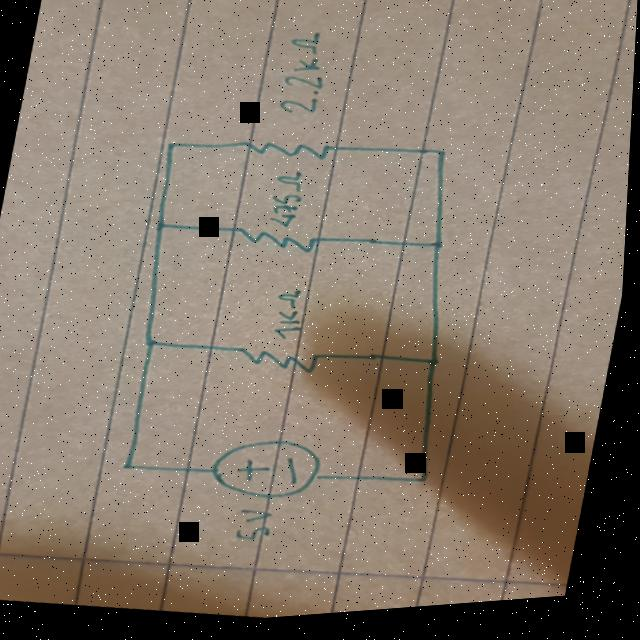junction: (117, 458, 149, 478), (140, 335, 167, 354), (158, 139, 186, 157), (426, 241, 452, 260), (413, 478, 440, 495), (151, 219, 176, 236), (424, 360, 450, 376), (430, 152, 456, 168)
resistor: (229, 130, 349, 177), (225, 221, 335, 266), (244, 343, 334, 386)
source: (209, 432, 335, 515)
text: (270, 31, 337, 125), (261, 167, 311, 240), (270, 290, 316, 347), (233, 507, 289, 551)
